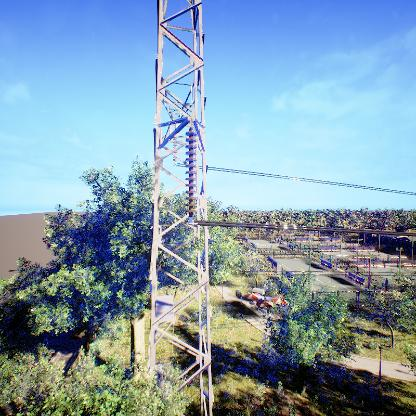insulator: (184, 128, 197, 217)
